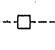Cable Termination Box: (15, 8, 33, 34)
